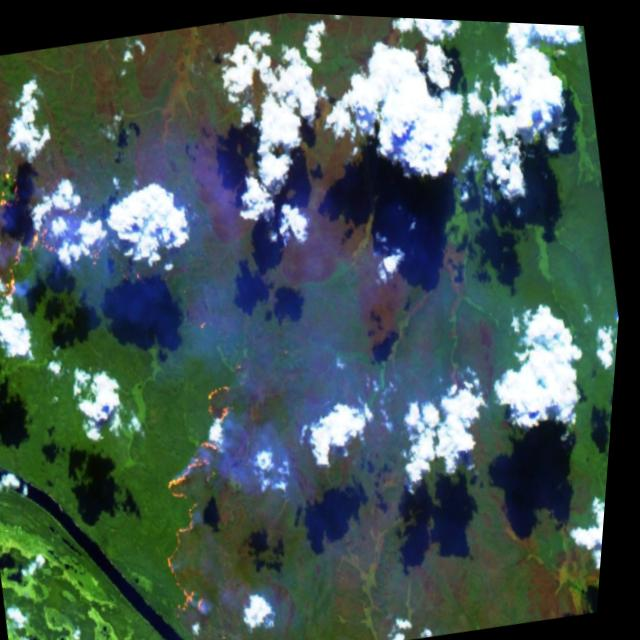fire: (133, 348, 314, 634), (0, 42, 118, 324)
